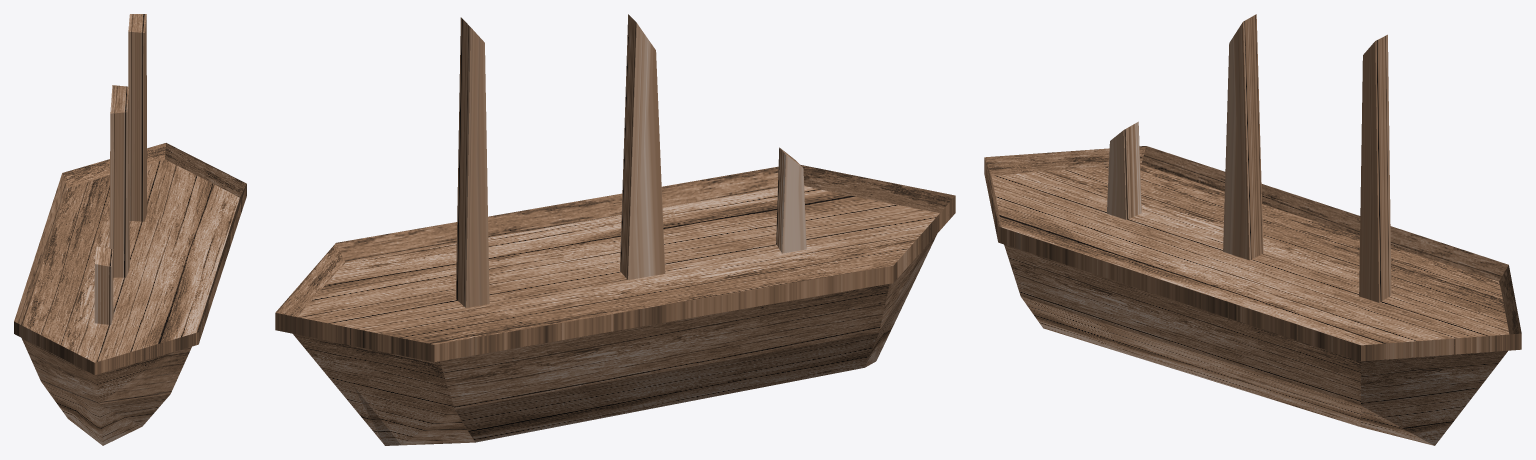
File: abarcofbx.fbx
The picture shows the model from 3 angles, left to right: view 1: azimuth 30°, elevation 25°; view 2: azimuth 150°, elevation 25°; view 3: azimuth 270°, elevation 25°; orthographic projection. The views are drawn at different scales.
Parts seen in each view (by area): view 1: Cubo.001; view 2: Cubo.001; view 3: Cubo.001.
Part boxes in pixels (x1=…): Cubo.001: x1=14, y1=14, x2=246, y2=445; Cubo.001: x1=275, y1=14, x2=955, y2=445; Cubo.001: x1=984, y1=14, x2=1521, y2=445.
Bounding box in the file's own units: 607 × 547 × 691.
1 material, 1 textured.
